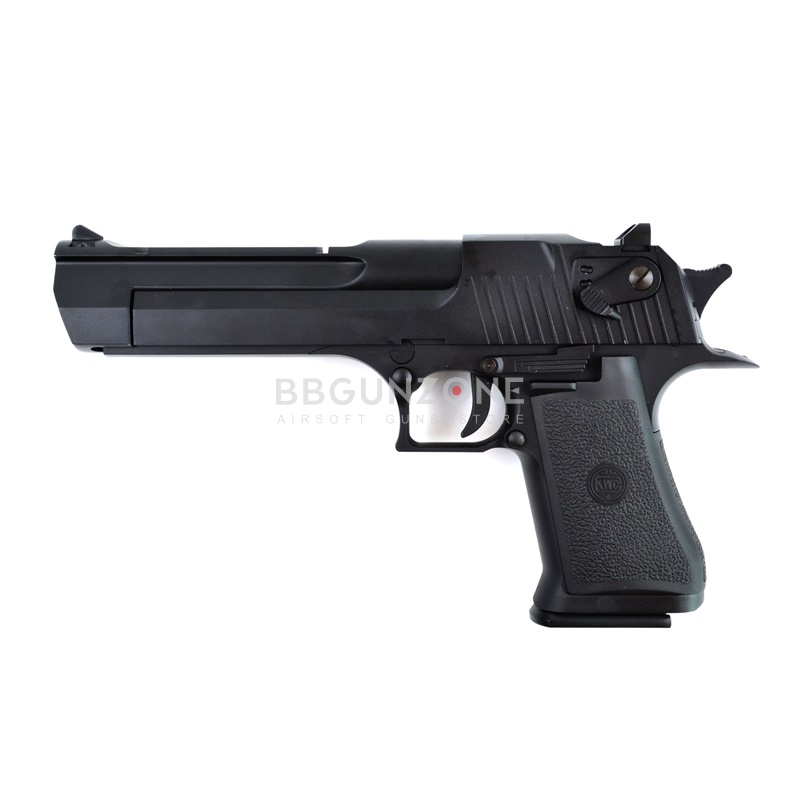gun: (43, 219, 772, 654)
